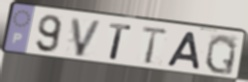9: (35, 14, 64, 55)
A: (165, 30, 202, 71)
Q: (203, 33, 238, 77)
T: (140, 25, 171, 65), (108, 21, 133, 62)
V: (70, 16, 104, 59)
